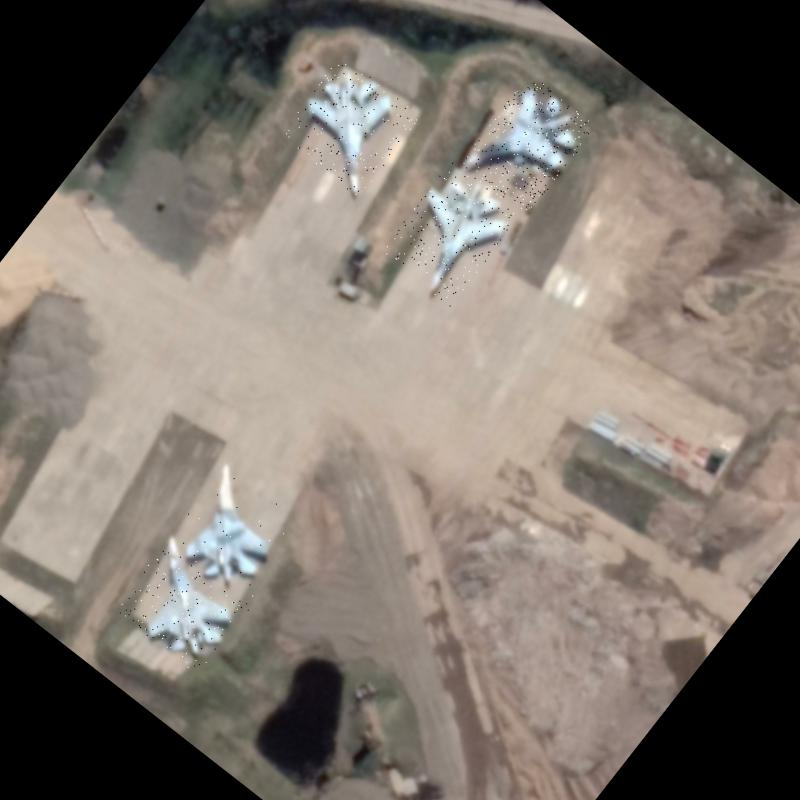A1: (277, 53, 422, 200), (380, 159, 522, 307), (113, 534, 257, 676), (163, 460, 303, 602), (460, 74, 598, 216)
